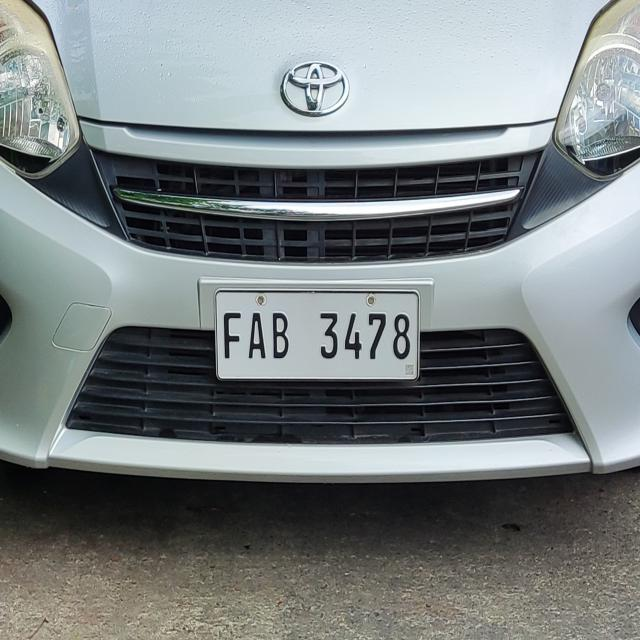plate: (213, 286, 422, 384)
